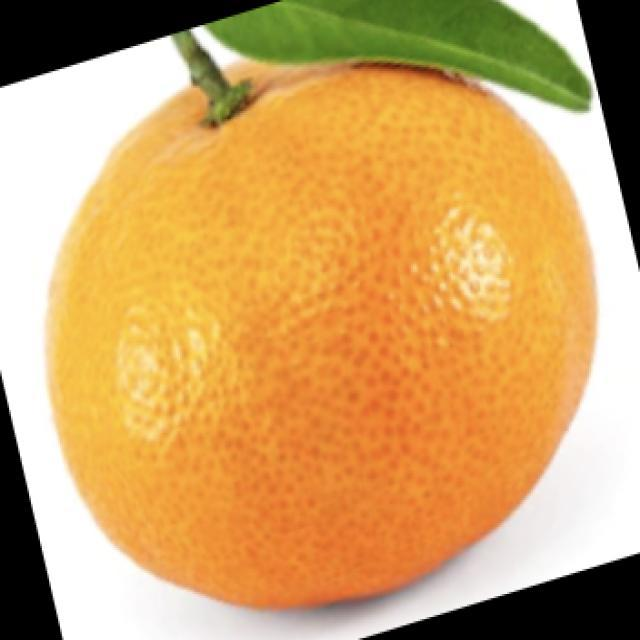matang: (48, 63, 595, 606)
